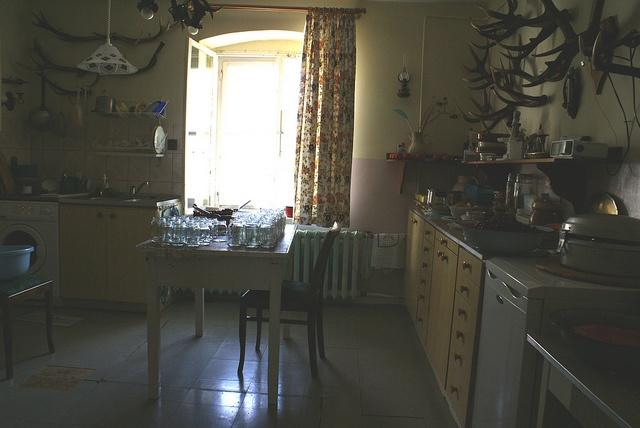Kursi: (235, 220, 340, 379)
